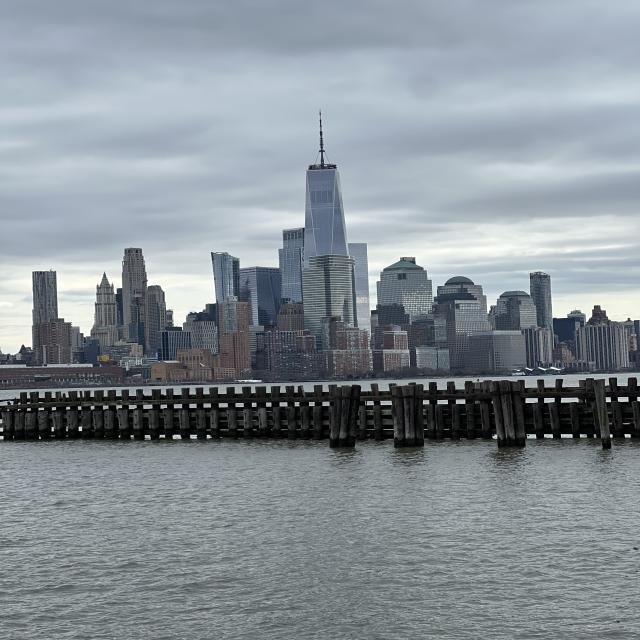WTC: (302, 108, 348, 256)
